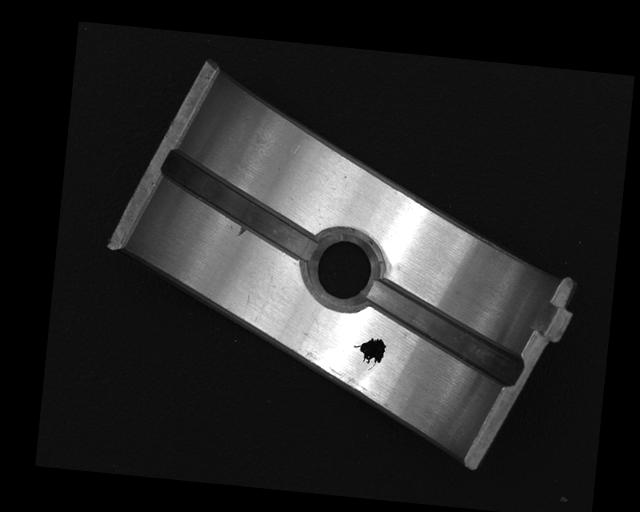blot: (350, 335, 387, 373)
bruise: (236, 225, 248, 237)
gap: (154, 150, 322, 263), (361, 281, 527, 388)
hole: (303, 227, 381, 310)
